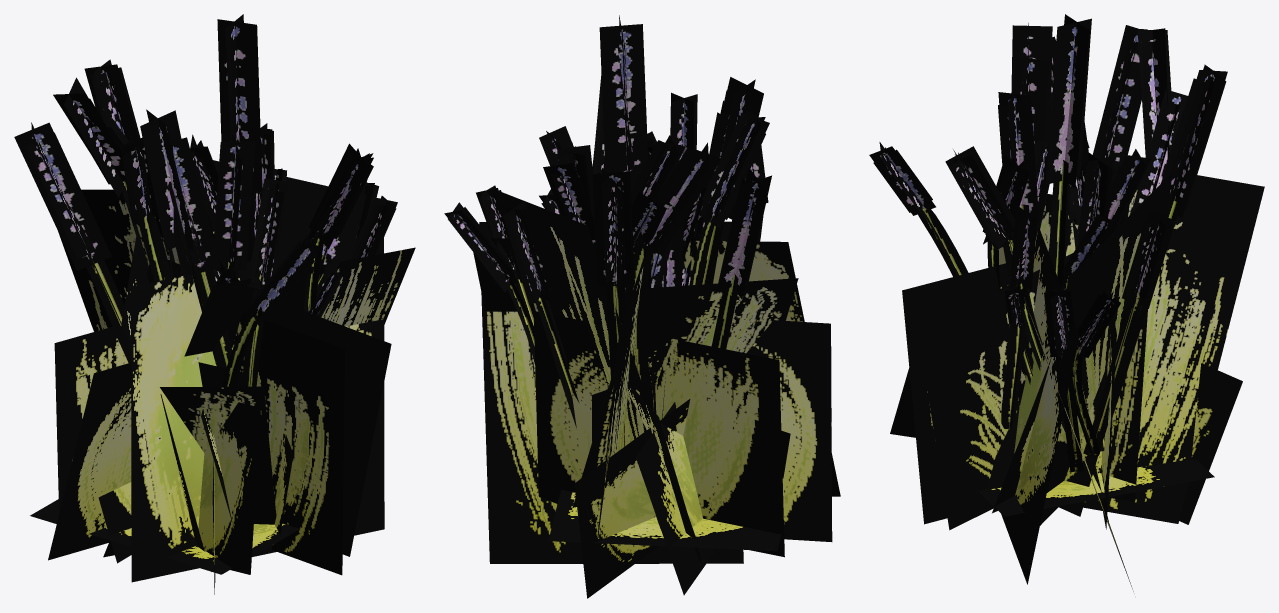
The model's file is grass44.fbx.
3 views of the same model, side by side, from view 1: azimuth 30°, elevation 25°; view 2: azimuth 150°, elevation 25°; view 3: azimuth 270°, elevation 25° (orthographic). The views are drawn at different scales.
Parts seen in each view (by area): view 1: Lavander3_BAKED; view 2: Lavander3_BAKED; view 3: Lavander3_BAKED.
Part boxes in pixels (x1,y1,x2,y2): Lavander3_BAKED: (14,14,415,594); Lavander3_BAKED: (444,15,840,598); Lavander3_BAKED: (869,14,1264,591).
Bounding box in the file's own units: 76.76 × 78.62 × 113.
